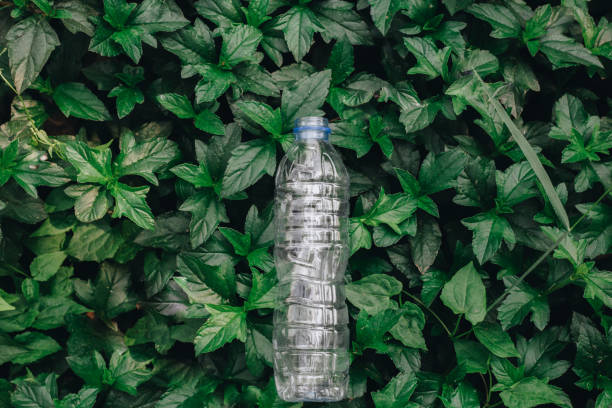Cup: (259, 104, 394, 406)
